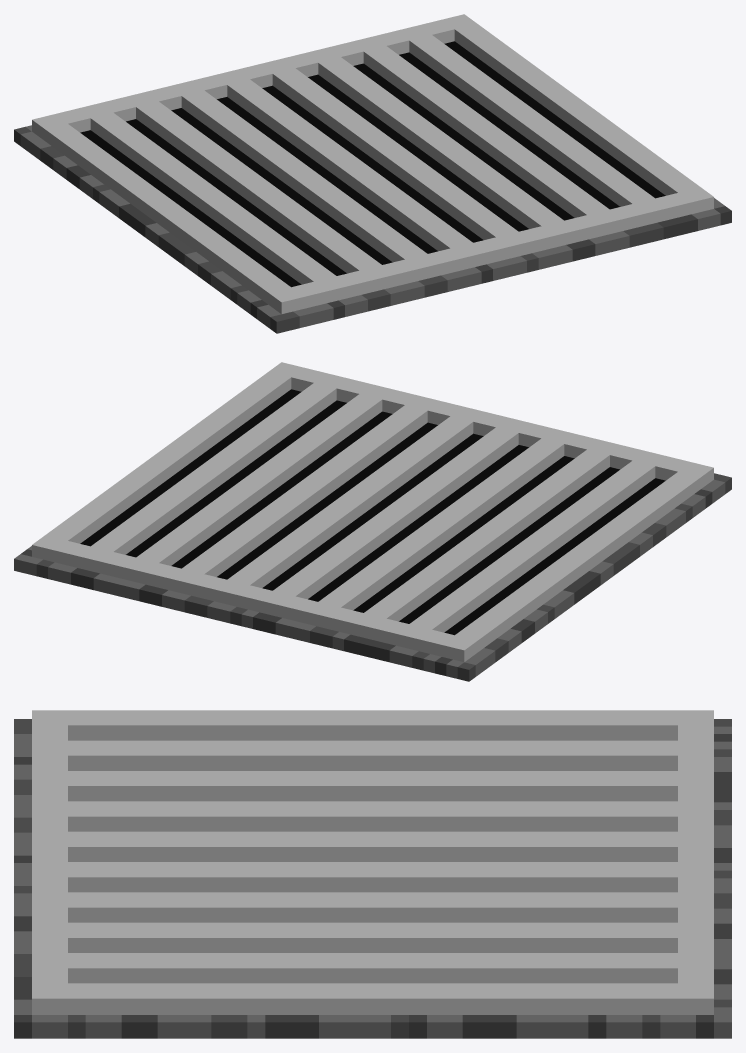
File: Vent_1.obj
3 views of the same model, one above another, from view 1: azimuth 30°, elevation 25°; view 2: azimuth 150°, elevation 25°; view 3: azimuth 270°, elevation 25° (orthographic). The views are drawn at different scales.
Size of the model in its own units: 4 by 0.2 by 4.
1 material, 1 textured.
